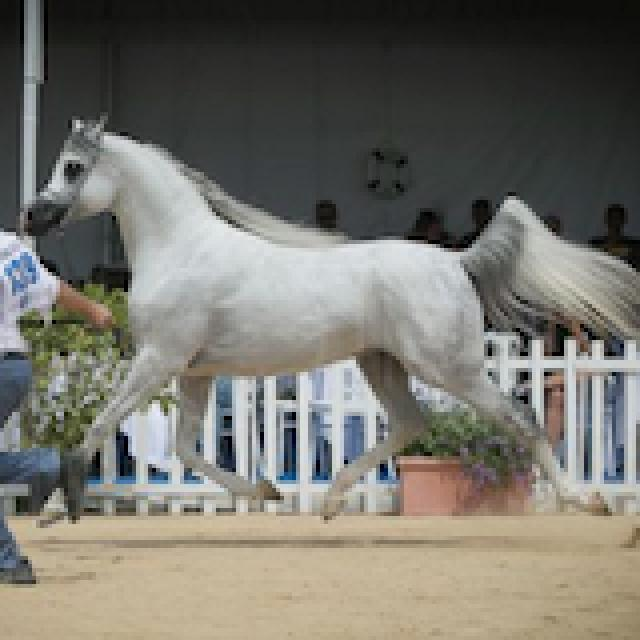Horse: (12, 108, 636, 524)
